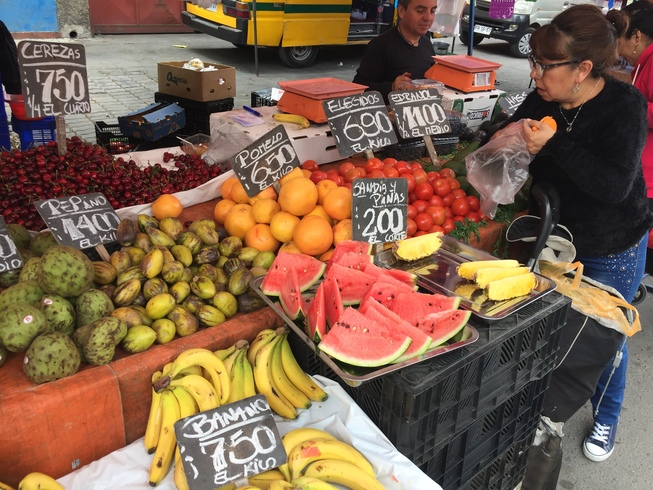precio: (34, 181, 128, 266), (16, 36, 94, 127), (226, 123, 311, 205), (320, 86, 405, 161), (350, 172, 418, 249), (385, 82, 453, 145)
